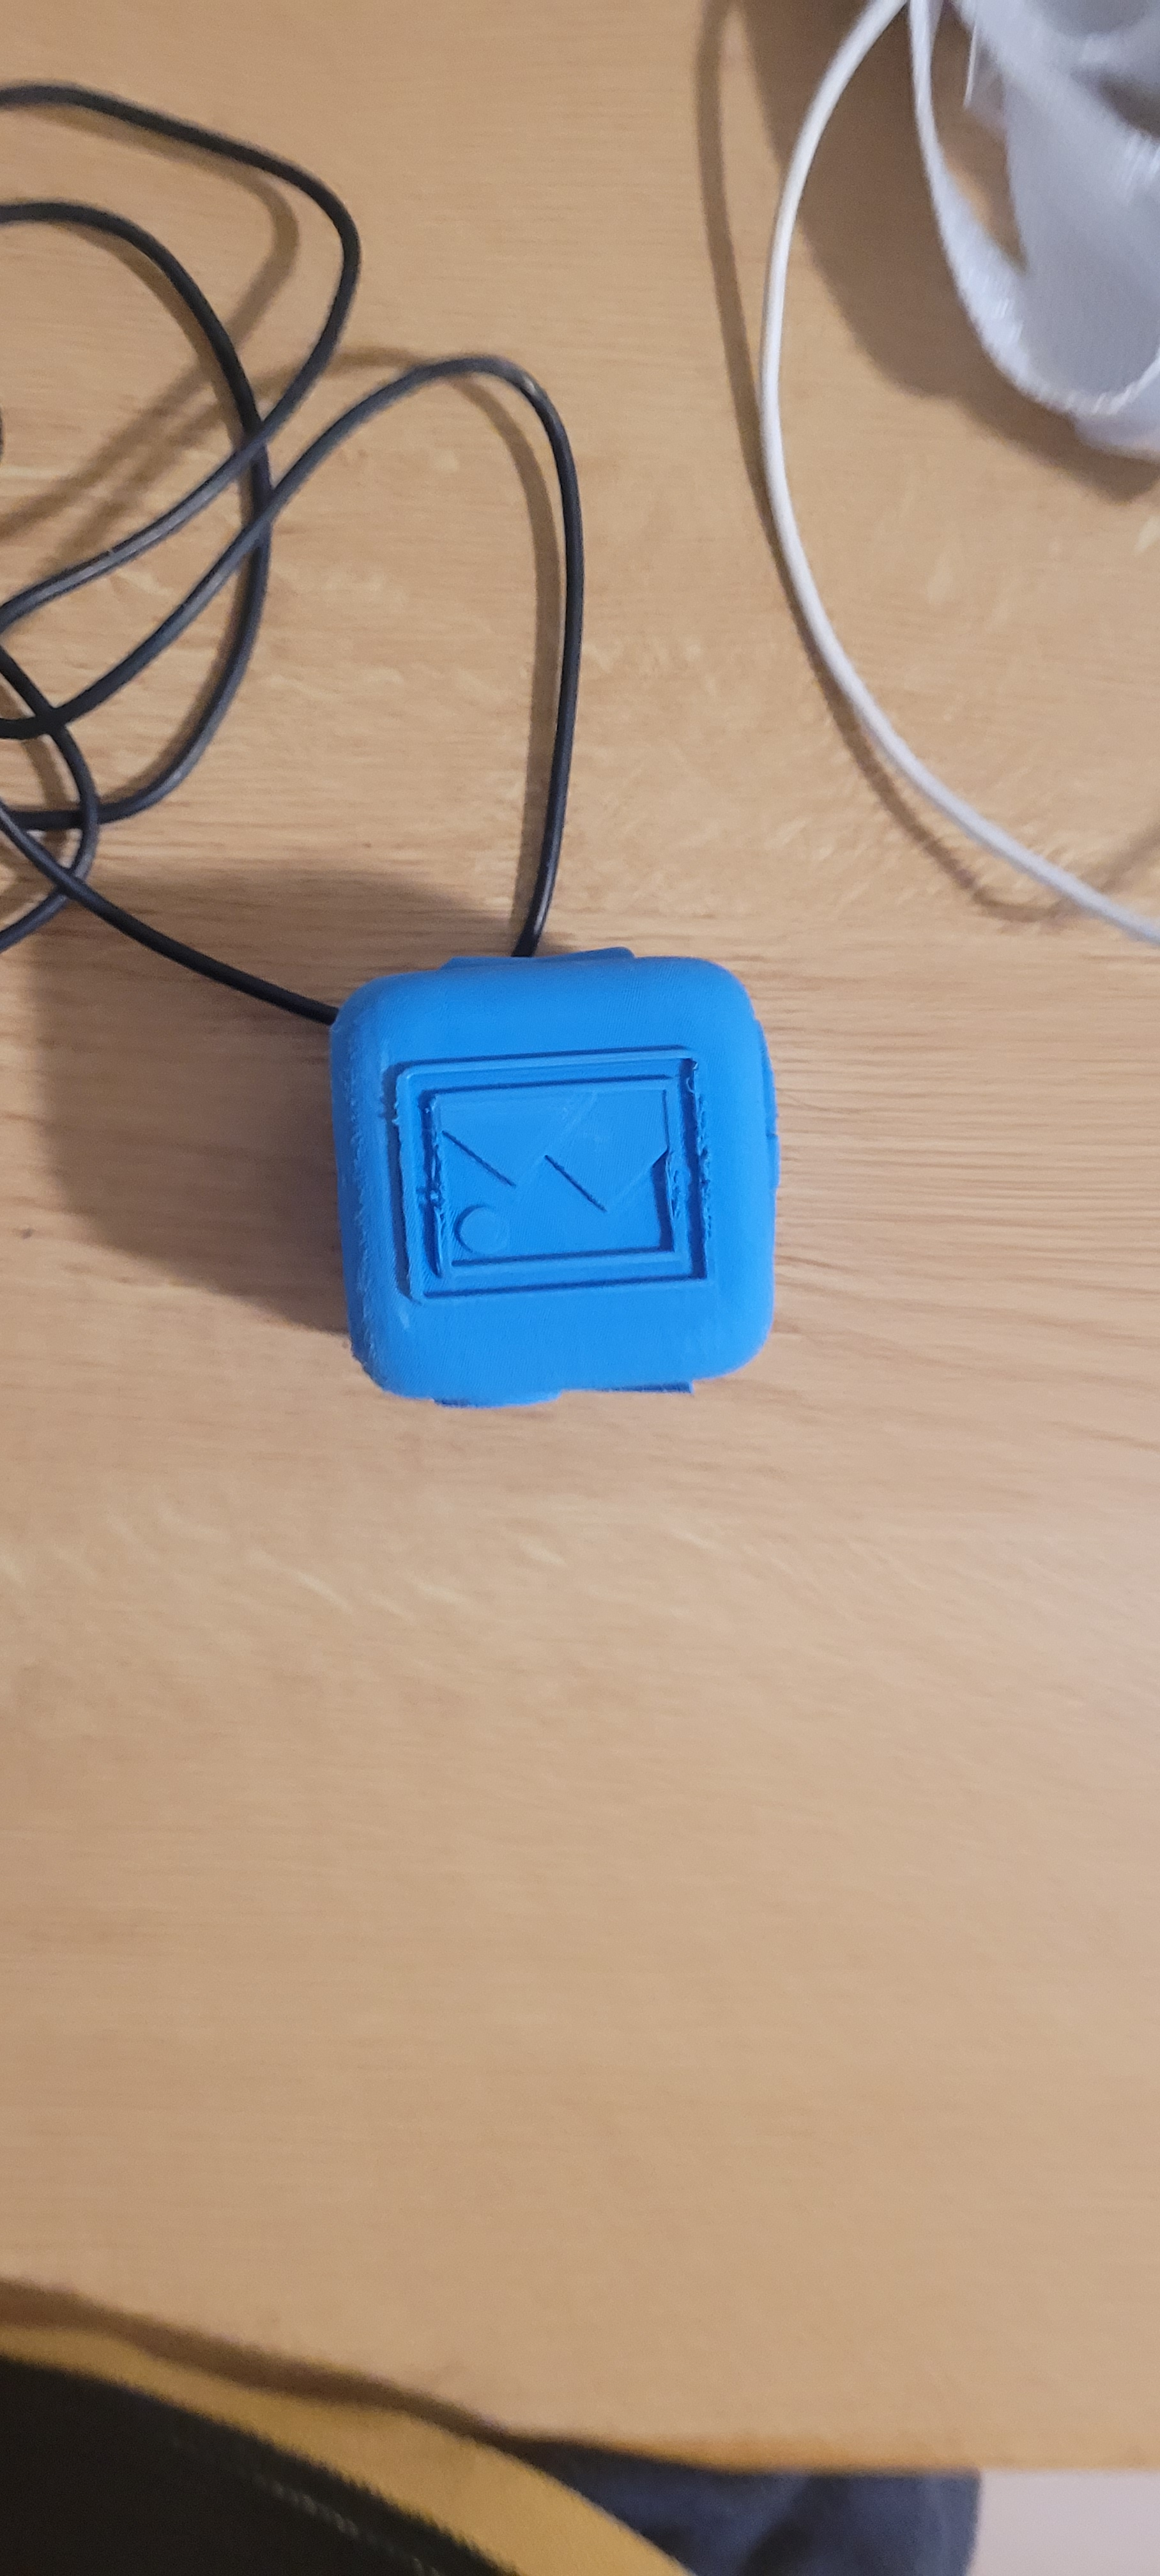Story: (373, 1024, 744, 1308)
